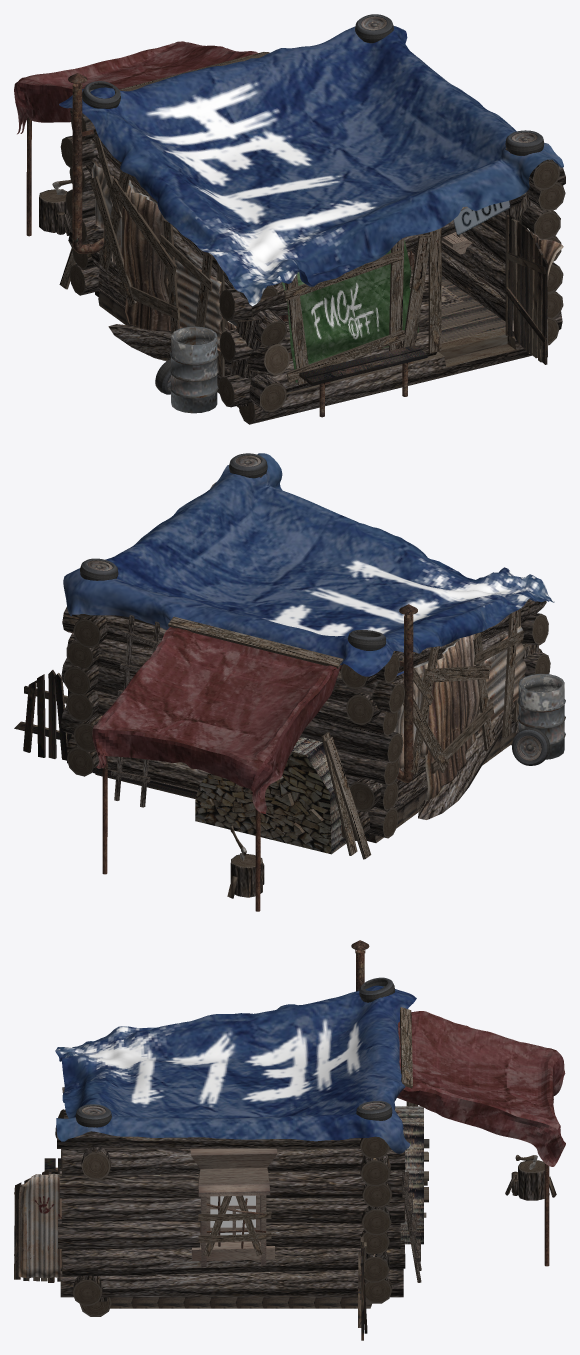
File: Shack.fbx
3 renders of one model, top to bottom at view 1: azimuth 30°, elevation 25°; view 2: azimuth 150°, elevation 25°; view 3: azimuth 270°, elevation 25°, orthographic. The views are drawn at different scales.
Visible parts, largest first — view 1: Plane.017, Plane.027, Cylinder.005, Cylinder.065, Cube.002, Plane.002, Cylinder.043, Cylinder.064, Cylinder.018, Cube.034, Cylinder.040, Plane.008 (+32 smaller); view 2: Plane.017, Cylinder.005, Cube.001, Plane.002, Cylinder.009, Cylinder.043, Cylinder.011, Cylinder.006, Cylinder.010, Cylinder.018, Cylinder.057, Cylinder.040 (+35 smaller); view 3: Plane.017, Cylinder.005, Cylinder.016, Cylinder.019, Cylinder.022, Cylinder.020, Cylinder.021, Cylinder.023, Cube.002, Cube.003, Cylinder.024, Cylinder.064 (+20 smaller).
Part boxes in pixels (left/top/right/bottom): Plane.017: left=59, top=26, right=563, bottom=306; Plane.027: left=282, top=228, right=441, bottom=385; Cylinder.005: left=14, top=41, right=257, bottom=134; Cylinder.065: left=239, top=328, right=532, bottom=424; Cube.002: left=505, top=215, right=563, bottom=364; Plane.002: left=123, top=180, right=171, bottom=330; Cylinder.043: left=169, top=326, right=218, bottom=413; Cylinder.064: left=98, top=256, right=505, bottom=408; Cylinder.018: left=108, top=324, right=289, bottom=375; Cube.034: left=299, top=345, right=427, bottom=417; Cylinder.040: left=68, top=73, right=103, bottom=253; Plane.008: left=175, top=258, right=222, bottom=351; Plane.017: left=63, top=453, right=554, bottom=676; Cylinder.005: left=92, top=627, right=342, bottom=813; Cube.001: left=195, top=732, right=371, bottom=859; Plane.002: left=414, top=634, right=481, bottom=801; Cylinder.009: left=61, top=657, right=403, bottom=763; Cylinder.043: left=517, top=673, right=565, bottom=759; Cylinder.011: left=62, top=607, right=405, bottom=713; Cylinder.006: left=67, top=734, right=398, bottom=838; Cylinder.010: left=67, top=632, right=398, bottom=736; Cylinder.018: left=418, top=648, right=542, bottom=819; Cylinder.057: left=168, top=616, right=343, bottom=668; Cylinder.040: left=396, top=604, right=417, bottom=782; Plane.017: left=55, top=985, right=416, bottom=1153; Cylinder.005: left=397, top=1011, right=565, bottom=1166; Cylinder.016: left=60, top=1267, right=403, bottom=1297; Cylinder.019: left=61, top=1240, right=405, bottom=1276; Cylinder.022: left=58, top=1219, right=400, bottom=1248; Cylinder.020: left=59, top=1169, right=402, bottom=1198; Cylinder.021: left=61, top=1193, right=404, bottom=1223; Cylinder.023: left=61, top=1148, right=405, bottom=1176; Cube.002: left=14, top=1169, right=61, bottom=1282; Cube.003: left=190, top=1148, right=277, bottom=1196; Cylinder.024: left=57, top=1131, right=390, bottom=1148; Cylinder.064: left=110, top=1297, right=372, bottom=1308.
Bounding box in the file's own units: 744 × 419 × 890.
